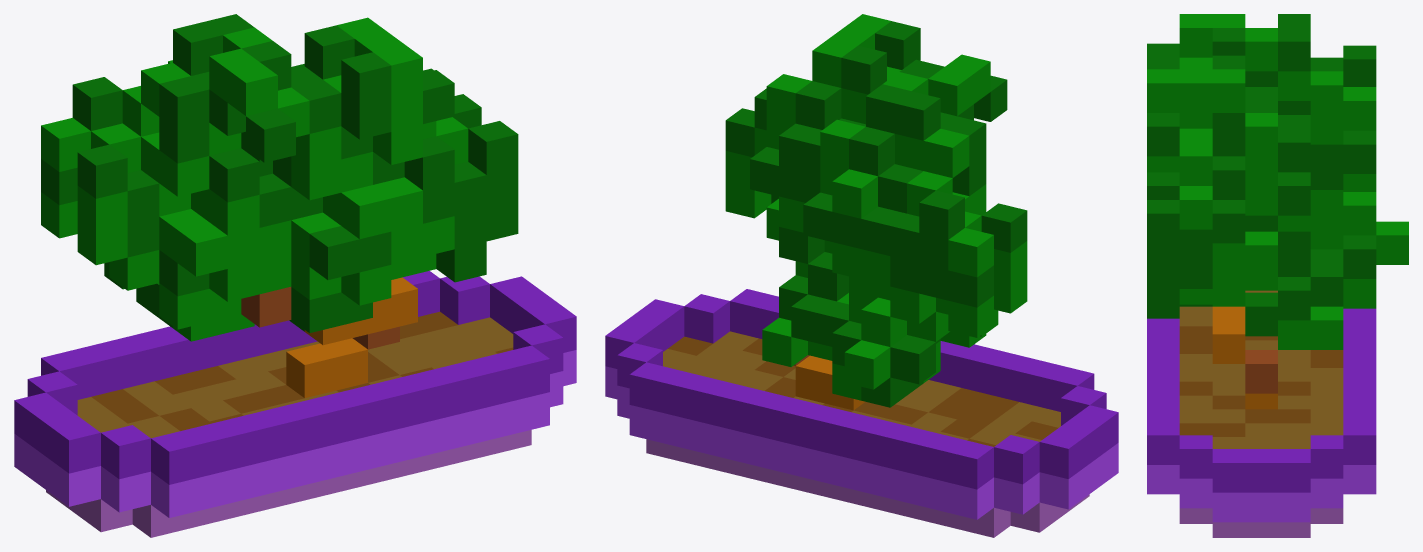
File: Flowers2.obj
3 views of the same model, side by side, from view 1: azimuth 30°, elevation 25°; view 2: azimuth 150°, elevation 25°; view 3: azimuth 270°, elevation 25° (orthographic). The views are drawn at different scales.
Bounding box in the file's own units: 1.6 × 1.3 × 0.8.
1 material, 1 textured.
